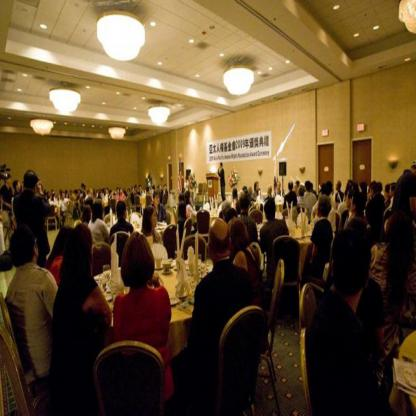face: (33, 239, 40, 259), (152, 211, 158, 229), (352, 196, 357, 211), (125, 207, 129, 221), (7, 176, 12, 187), (185, 206, 189, 218), (390, 186, 394, 197), (157, 196, 161, 205), (18, 182, 21, 191), (371, 187, 374, 196), (257, 184, 260, 192), (337, 182, 340, 190), (386, 187, 388, 198), (278, 183, 281, 190), (121, 189, 124, 194), (220, 163, 222, 169), (62, 193, 64, 199), (118, 190, 120, 194), (136, 187, 138, 191), (111, 192, 113, 195), (140, 187, 142, 190), (166, 186, 168, 189), (161, 186, 162, 189), (133, 188, 134, 191), (82, 186, 83, 189)
